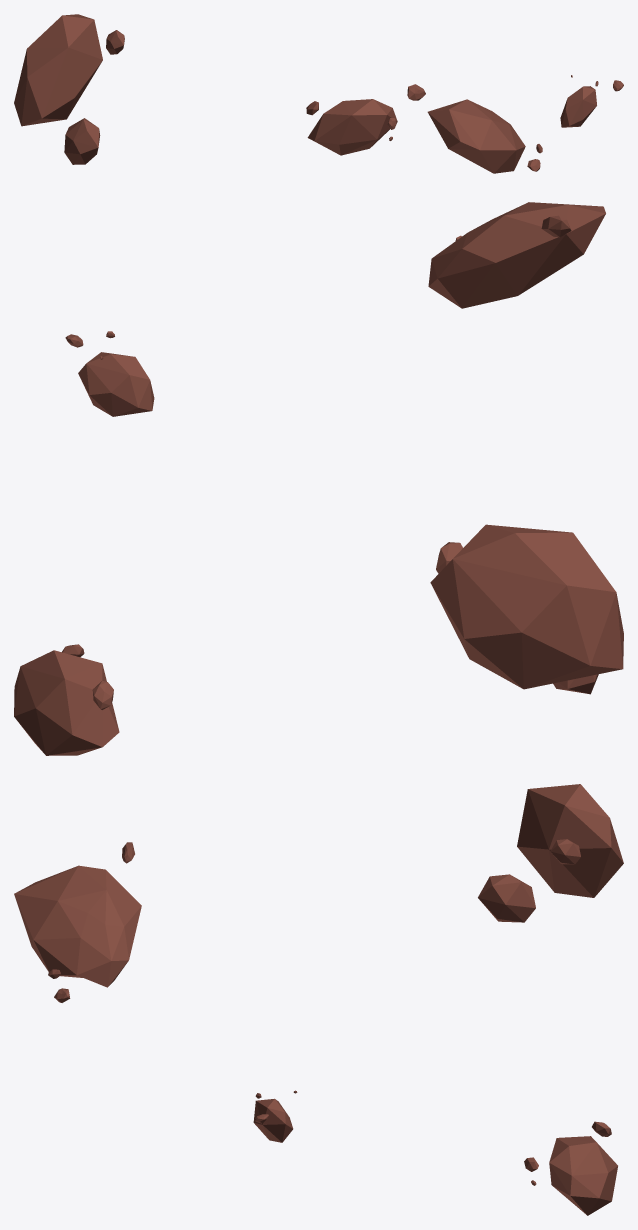
Rendered from Scenery_Rocks.fbx.
The picture shows the model from 3 angles, top to bottom: view 1: azimuth 30°, elevation 25°; view 2: azimuth 150°, elevation 25°; view 3: azimuth 270°, elevation 25°; orthographic projection. The views are drawn at different scales.
Parts seen in each view (by area): view 1: Asteroid.002, Asteroid.001, Asteroid.003, Asteroid.046, Asteroid.013, Asteroid.047, Asteroid.008; view 2: Asteroid.002, Asteroid.001, Asteroid.003, Asteroid.013; view 3: Asteroid.001, Asteroid.002, Asteroid.003, Asteroid.046, Asteroid.013, Asteroid.047.
Boxes of the visible parts, x1,y1,x2,y2 form: Asteroid.002: (14, 14, 102, 126); Asteroid.001: (427, 99, 525, 173); Asteroid.003: (307, 99, 397, 155); Asteroid.046: (64, 118, 100, 164); Asteroid.013: (560, 86, 596, 127); Asteroid.047: (106, 30, 124, 54); Asteroid.008: (407, 84, 425, 100); Asteroid.002: (430, 524, 623, 689); Asteroid.001: (428, 202, 605, 308); Asteroid.003: (14, 650, 119, 755); Asteroid.013: (78, 352, 154, 416); Asteroid.001: (14, 865, 141, 987); Asteroid.002: (517, 784, 623, 897); Asteroid.003: (549, 1136, 617, 1215); Asteroid.046: (478, 874, 535, 922); Asteroid.013: (253, 1098, 293, 1142); Asteroid.047: (550, 839, 580, 864).
Bounding box in the file's own units: 10.23 × 4.87 × 9.4.
